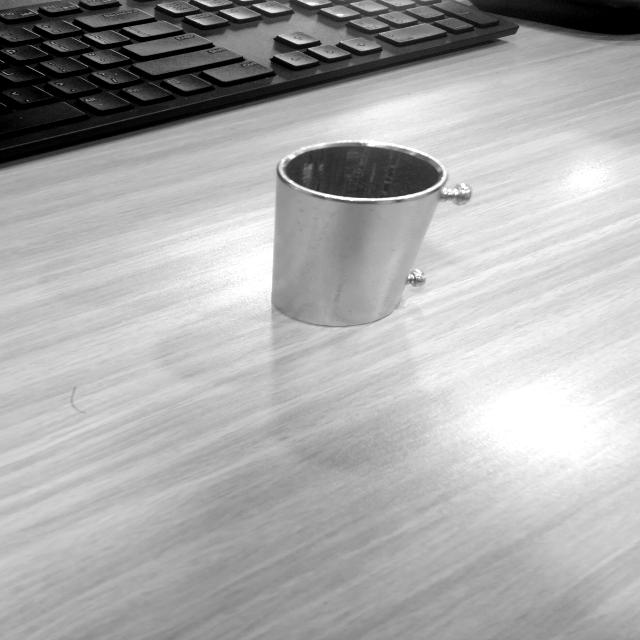Co_Lon: (271, 138, 472, 332)
